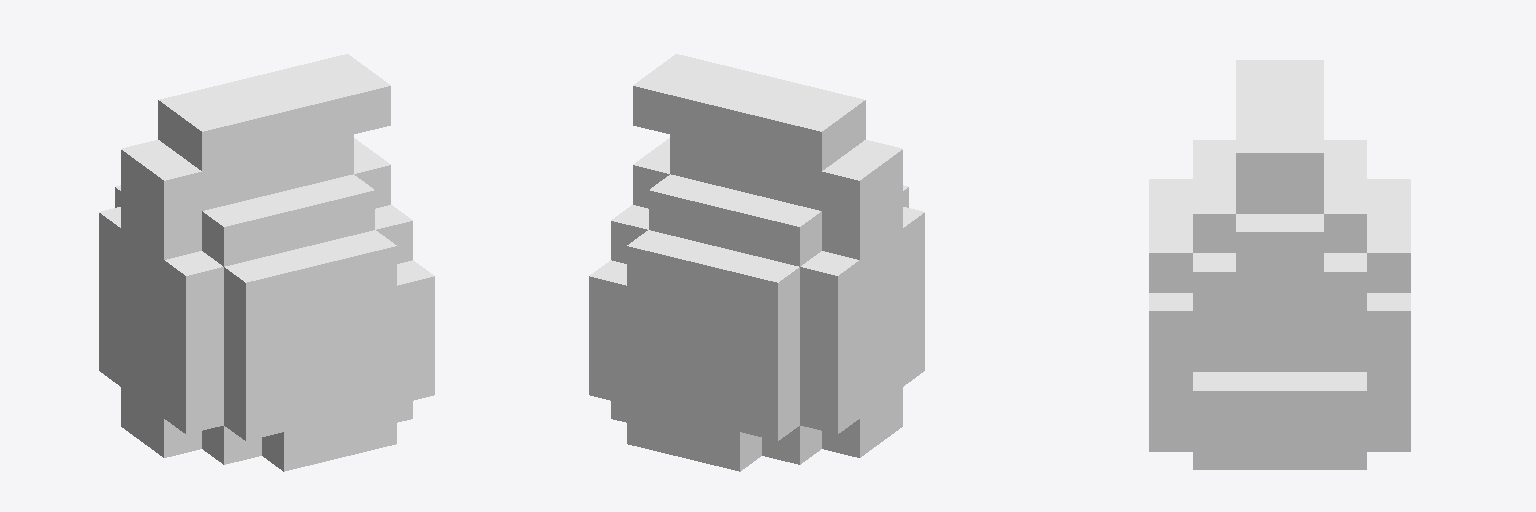
Rendered from Knight1_F1.obj.
3 views of the same model, side by side, from view 1: azimuth 30°, elevation 25°; view 2: azimuth 150°, elevation 25°; view 3: azimuth 270°, elevation 25° (orthographic).
Parts seen in each view (by area): view 1: object 1; view 2: object 1; view 3: object 1.
Boxes of the visible parts, <box> form: object 1: <box>99,54,434,471</box>; object 1: <box>589,54,924,471</box>; object 1: <box>1149,60,1410,469</box>.
Size of the model in its own units: 0.6 by 0.8 by 0.6.